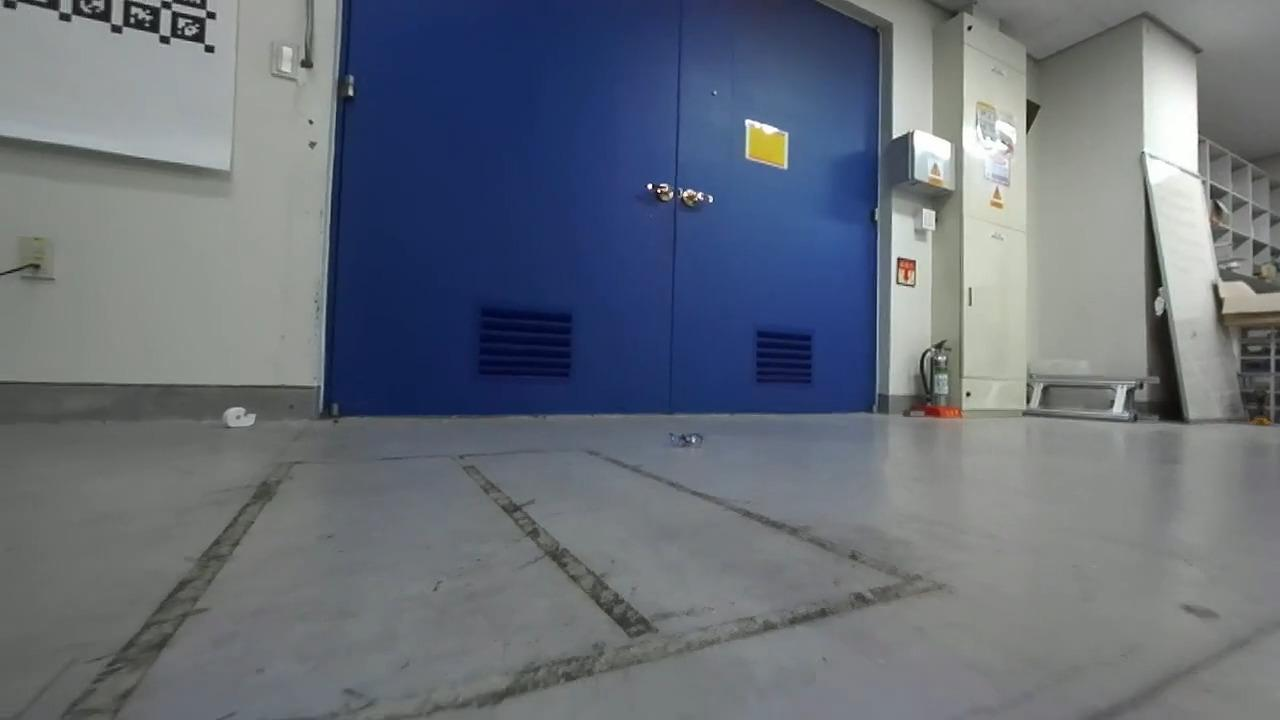crazyflie: (661, 425, 715, 454)
